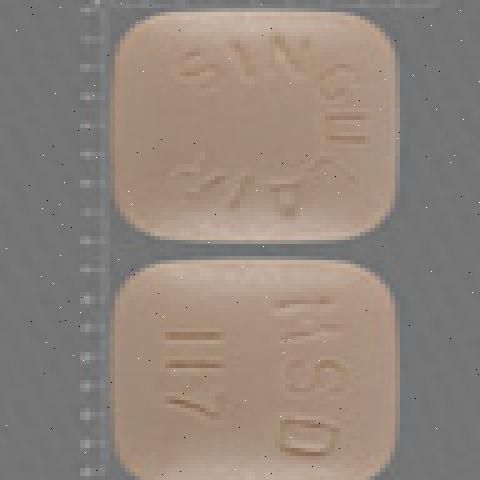Pill: (102, 6, 404, 250), (74, 258, 406, 475)
